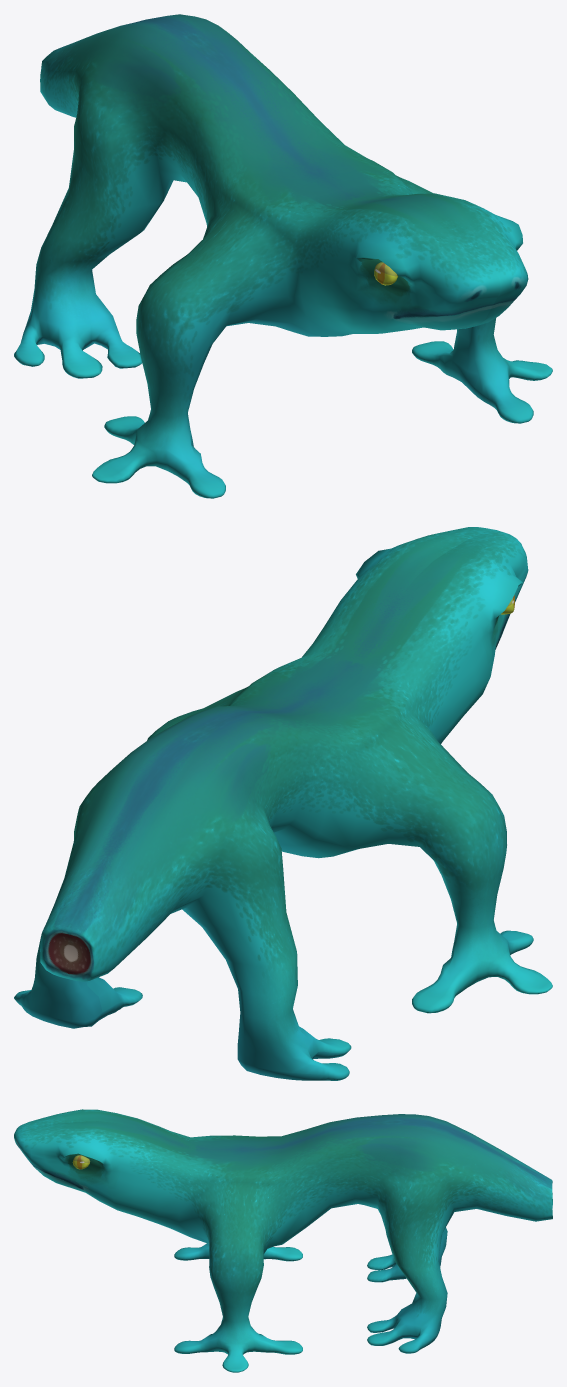
Rendered from lizardWELDED.fbx.
3 renders of one model, top to bottom at view 1: azimuth 30°, elevation 25°; view 2: azimuth 150°, elevation 25°; view 3: azimuth 270°, elevation 25°, orthographic. The views are drawn at different scales.
Parts seen in each view (by area): view 1: polySurface1; view 2: polySurface1; view 3: polySurface1.
Boxes of the visible parts, x1,y1,x2,y2 form: polySurface1: [14, 14, 552, 498]; polySurface1: [14, 527, 552, 1080]; polySurface1: [14, 1109, 552, 1372].
Size of the model in its own units: 13.97 by 8.68 by 22.97.
Materials: 1 (1 with a texture image).
